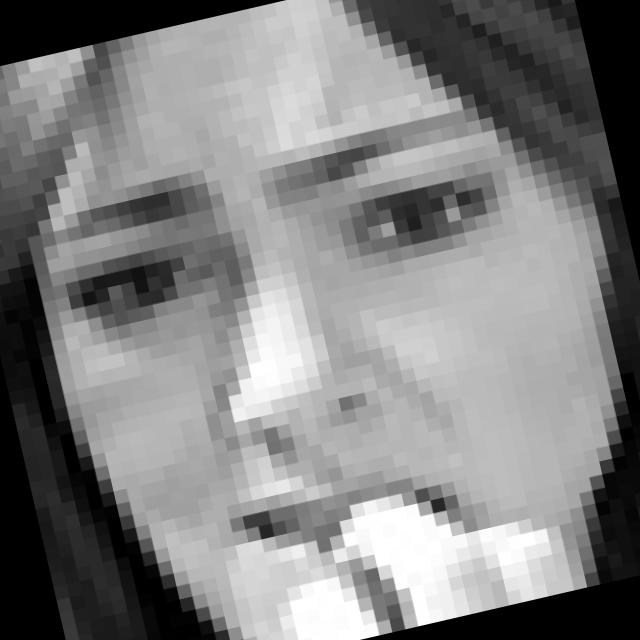fear: (38, 97, 590, 628)
